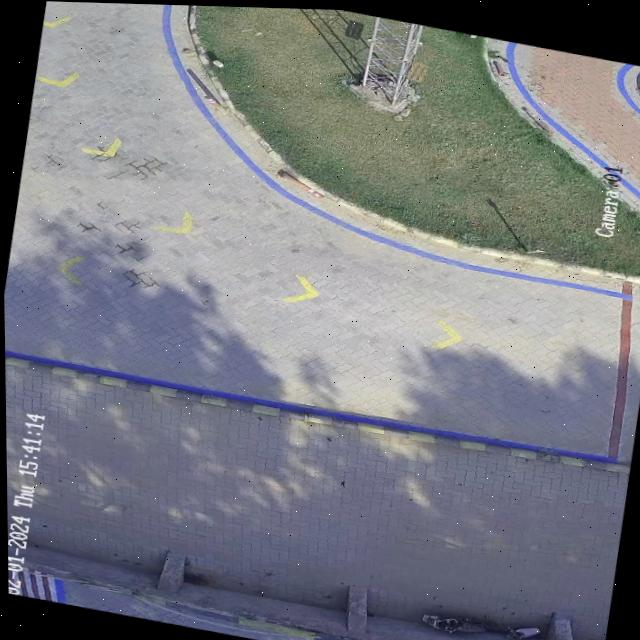No Car: (3, 1, 640, 640)
